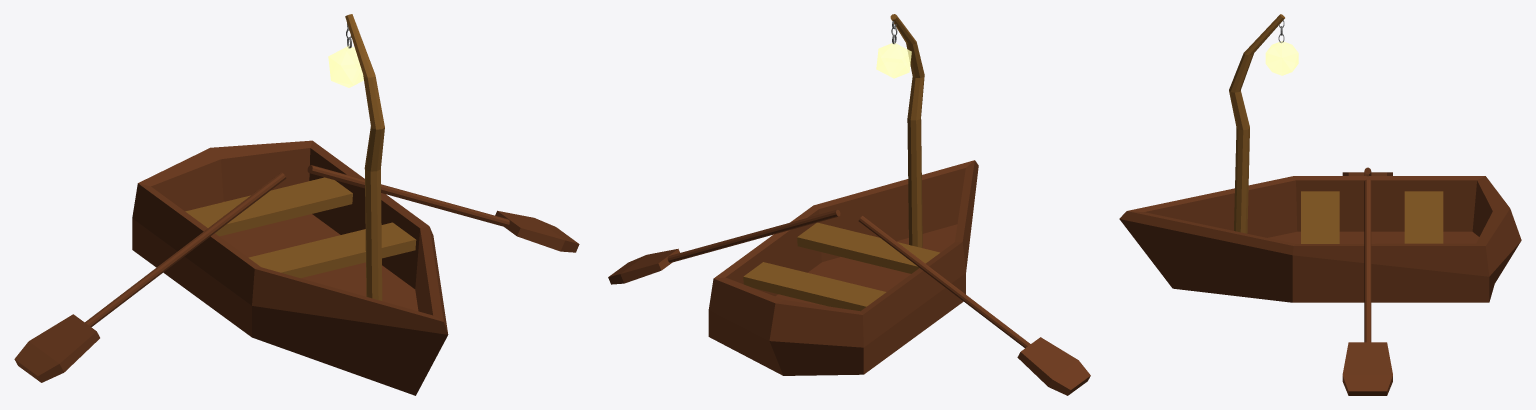
3 views of the same model, side by side, from view 1: azimuth 30°, elevation 25°; view 2: azimuth 150°, elevation 25°; view 3: azimuth 270°, elevation 25° (orthographic). The views are drawn at different scales.
Visible parts, largest first — view 1: 船; view 2: 船; view 3: 船.
Boxes of the visible parts, left/top/right/bottom form: 船: left=14, top=14, right=579, bottom=395; 船: left=608, top=14, right=1090, bottom=395; 船: left=1119, top=14, right=1521, bottom=395.
Bounding box in the file's own units: 2663 × 1570 × 2086.
